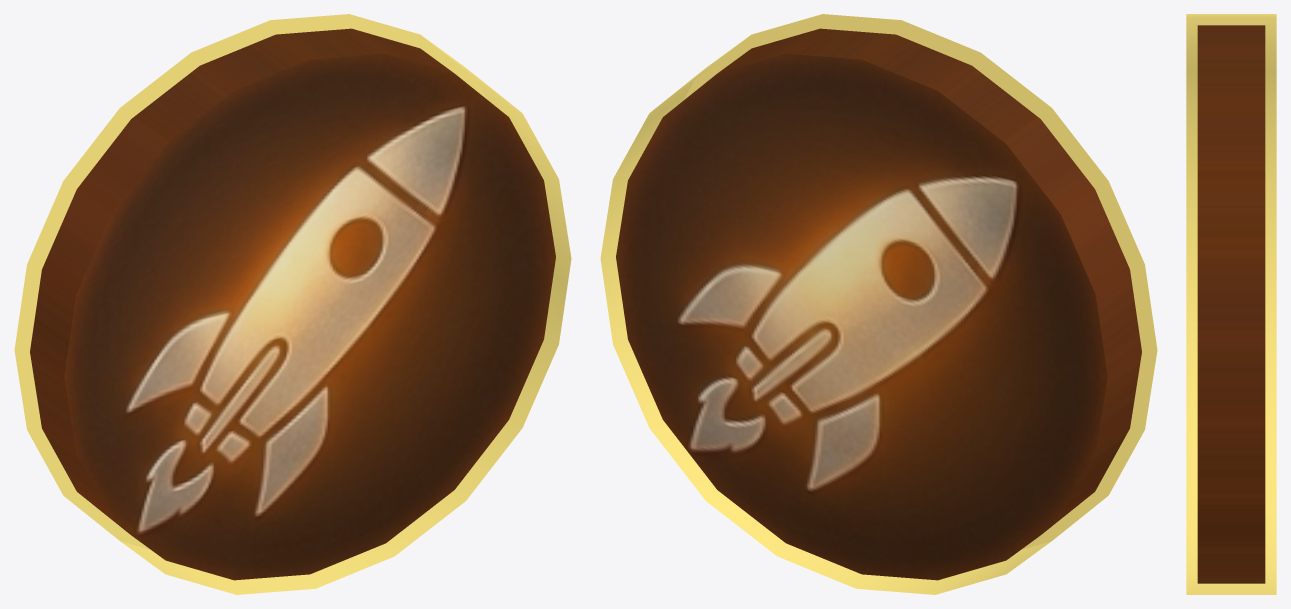
File: rockets4.glb
3 views of the same model, side by side, from view 1: azimuth 30°, elevation 25°; view 2: azimuth 150°, elevation 25°; view 3: azimuth 270°, elevation 25° (orthographic).
Visible parts, largest first — view 1: rockets, rocketsOutline; view 2: rockets, rocketsOutline; view 3: rockets, rocketsOutline.
Part boxes in pixels (bbox=[...]): rockets: bbox=[30, 28, 555, 580]; rocketsOutline: bbox=[14, 14, 571, 594]; rockets: bbox=[616, 28, 1141, 580]; rocketsOutline: bbox=[600, 14, 1157, 594]; rockets: bbox=[1197, 25, 1265, 583]; rocketsOutline: bbox=[1186, 14, 1276, 594].
Size of what is drawn, in the model's own units: 0.9226 by 0.9226 by 0.1421.
Materials: 2 (2 with a texture image).
